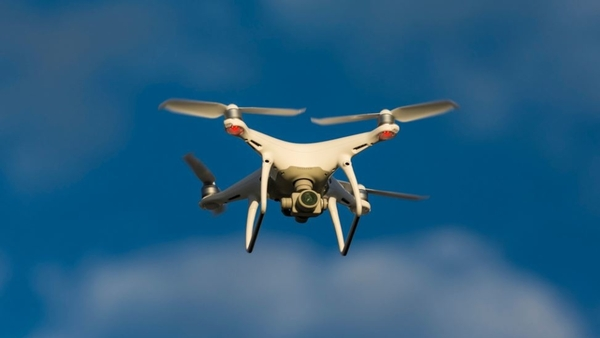drone: (156, 95, 461, 257)
